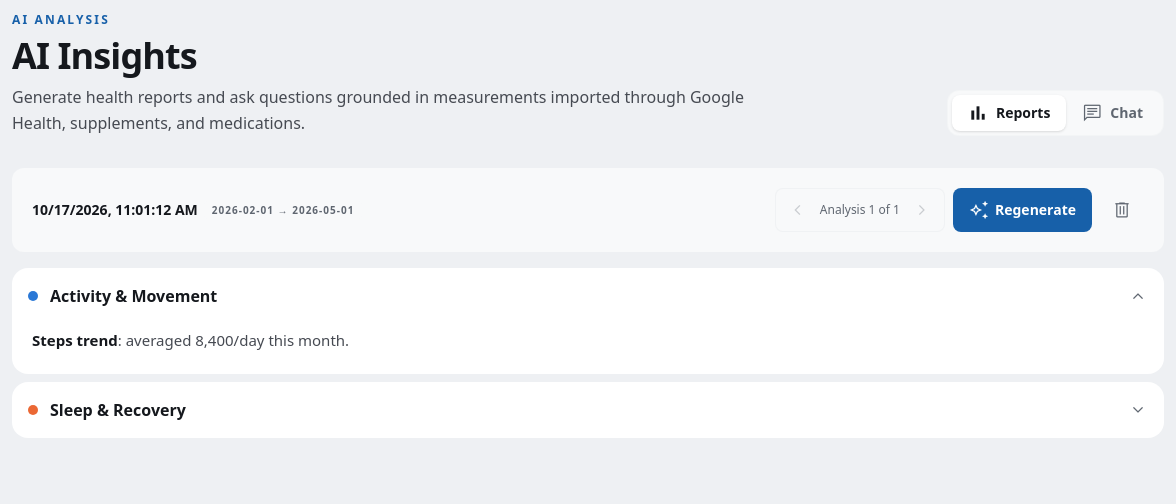
Insights page › renders a generation's category accordion with the first category open
Expected: the text "Steps trend: averaged 8,400/day this month." is shown, [32, 330, 349, 350]
Expected: the text "6h45m" is not shown
Click the button "Sleep & Recovery": click(118, 410) [12, 382, 1164, 438]
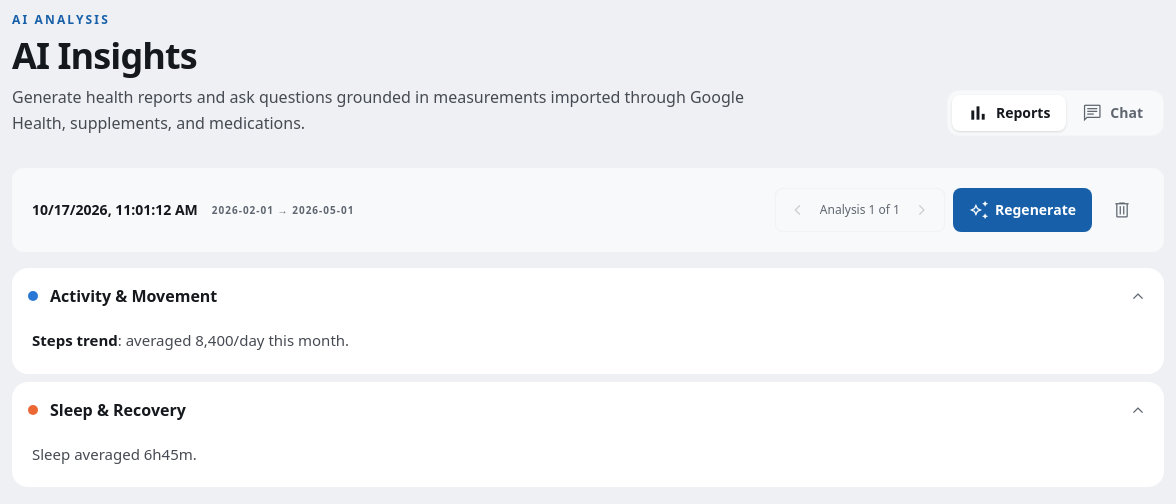
Now the button "Sleep & Recovery" is expanded, box [12, 382, 1164, 438]
Now the text "Sleep averaged 6h45m." is shown, box [32, 444, 197, 464]
